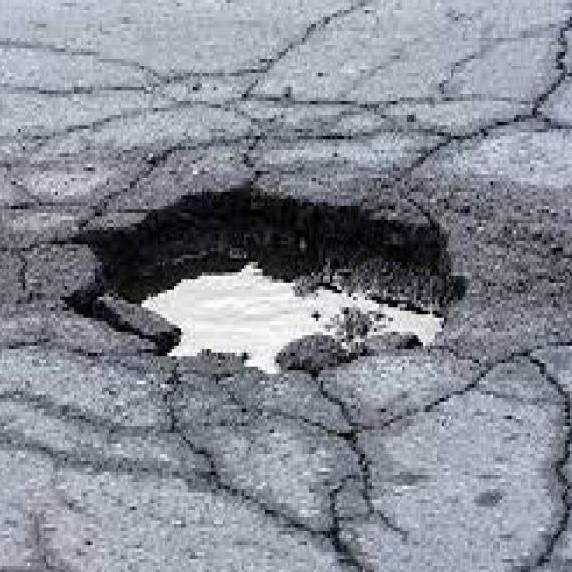pothole: (49, 161, 478, 377)
